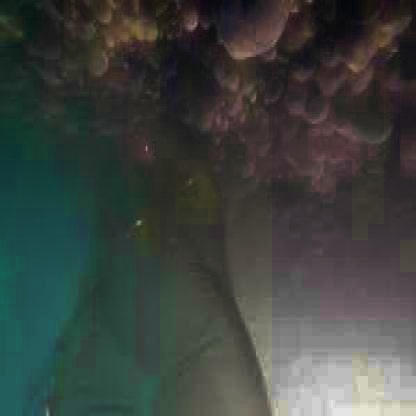pbottle: (15, 129, 273, 416)
